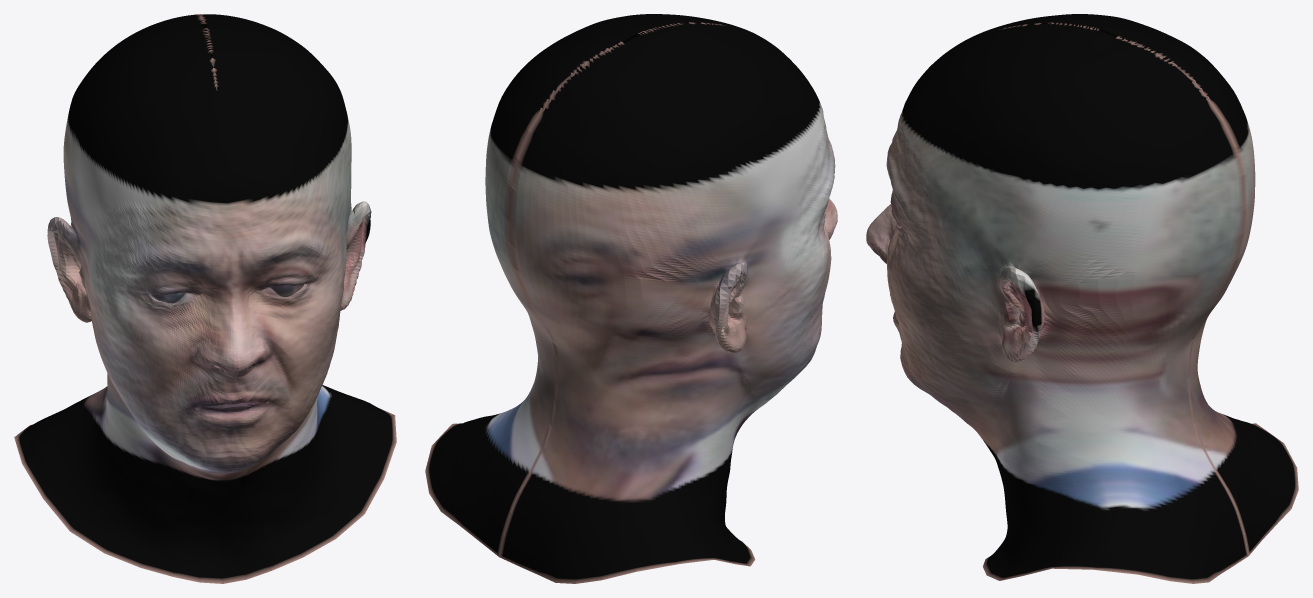
File: mesh_coarse_detail.obj
3 renders of one model, left to right at view 1: azimuth 30°, elevation 25°; view 2: azimuth 150°, elevation 25°; view 3: azimuth 270°, elevation 25°, orthographic. The views are drawn at different scales.
Bounding box in the file's own units: 0.2084 × 0.3215 × 0.2355.
